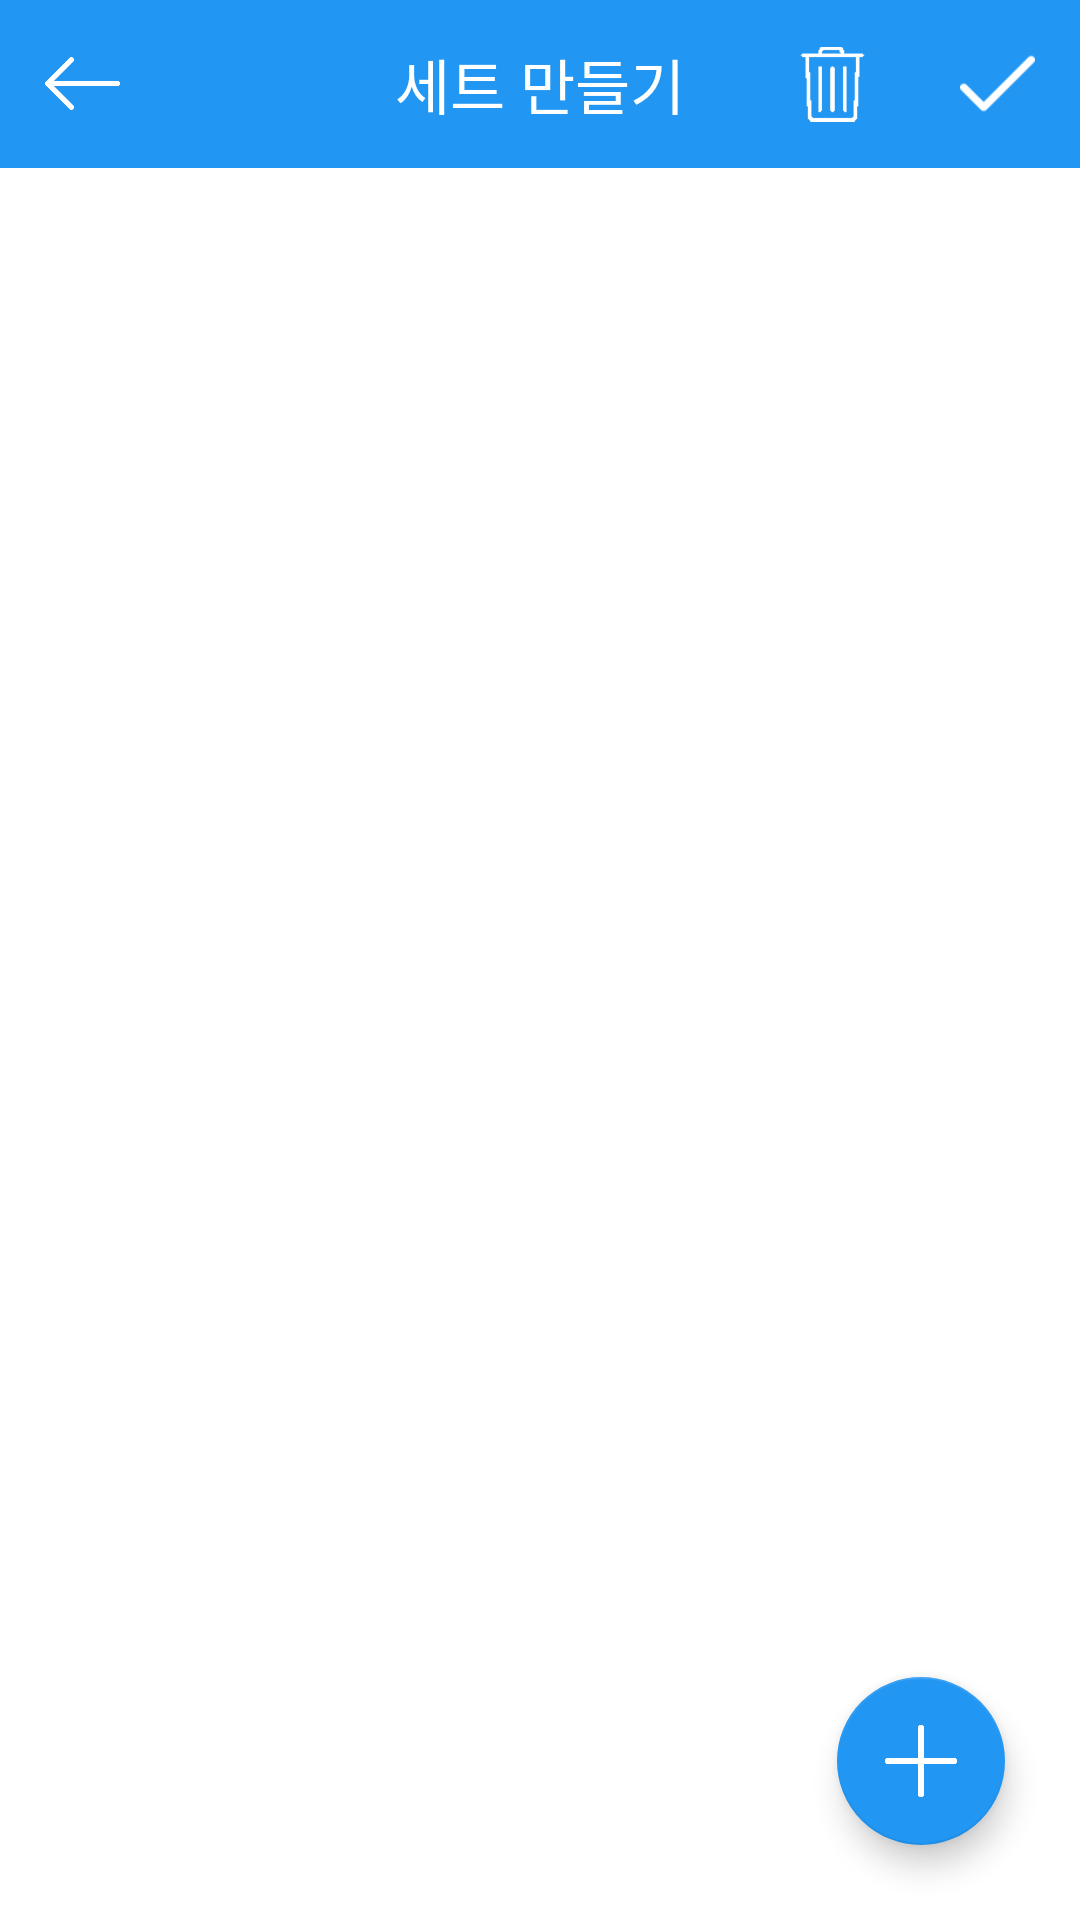

Where icons sit on this 1080px×1920px app screen, as BBox(x1, y1, x2, y2):
arrow: BBox(45, 57, 120, 110)
check mark: BBox(960, 55, 1035, 112)
garbage: BBox(800, 47, 865, 122)
plus: BBox(837, 1677, 1005, 1845)
